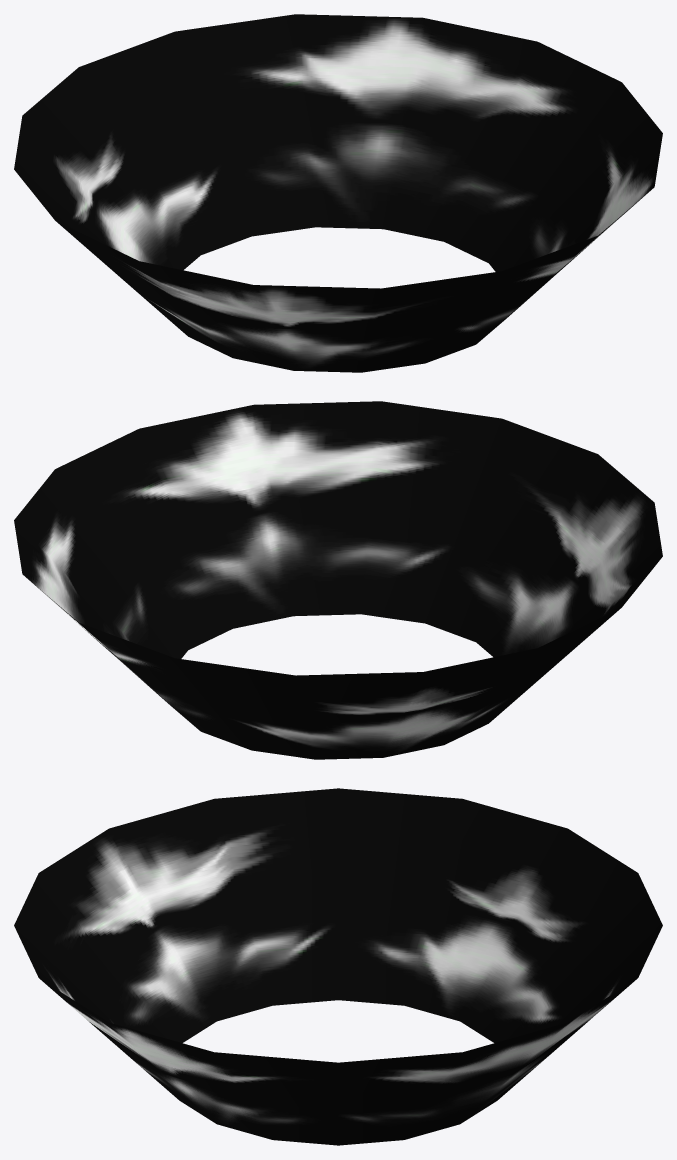
Rendered from 0471_xiaohuolong_ring_z01.glb.
The picture shows the model from 3 angles, top to bottom: view 1: azimuth 30°, elevation 25°; view 2: azimuth 150°, elevation 25°; view 3: azimuth 270°, elevation 25°; orthographic projection.
Bounding box in the file's own units: 2.2 × 0.5513 × 2.2.
Materials: 1 (1 with a texture image).
